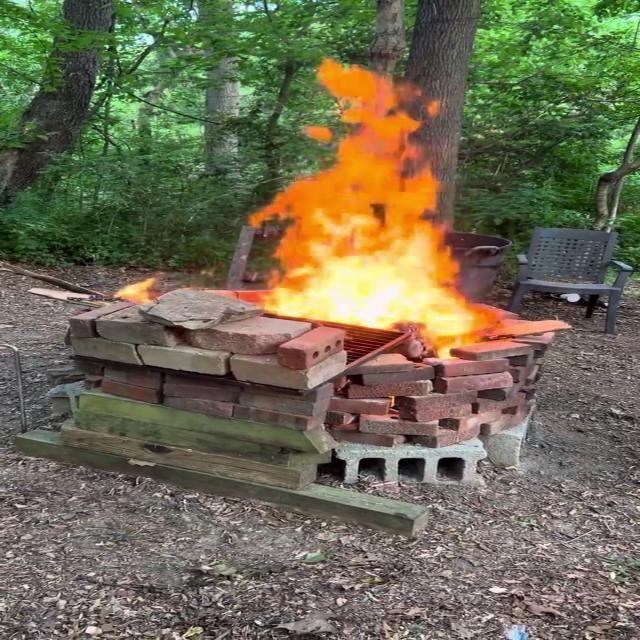Fire: (242, 59, 506, 357), (114, 272, 163, 306)
